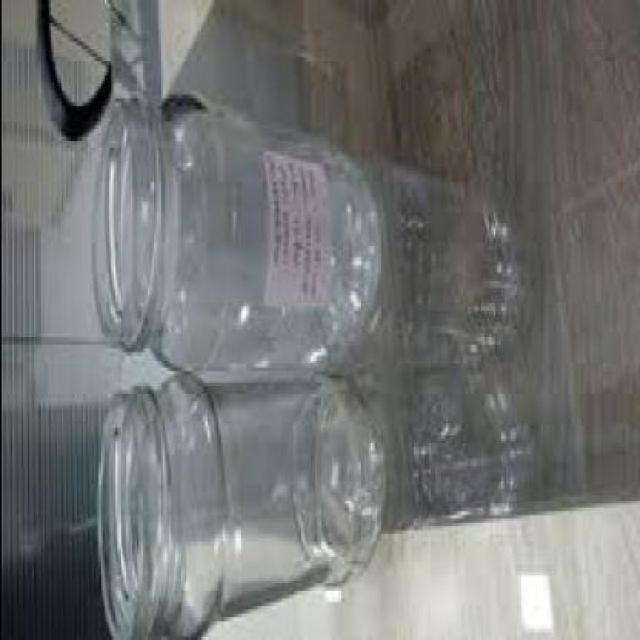GLASS: (88, 87, 372, 367), (95, 375, 378, 633)
